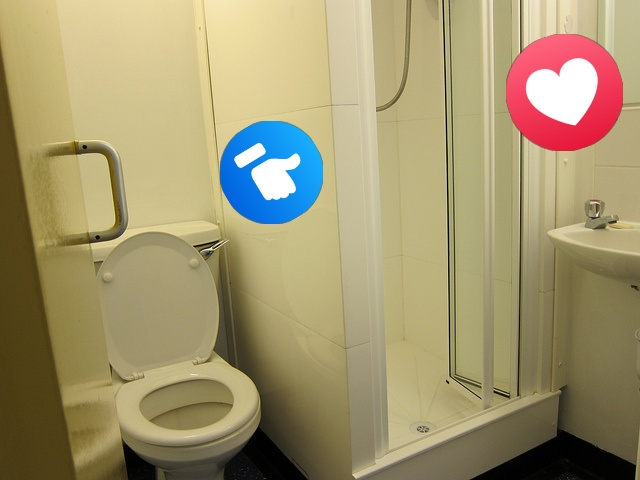like: (220, 121, 323, 224)
love: (506, 34, 623, 151)
